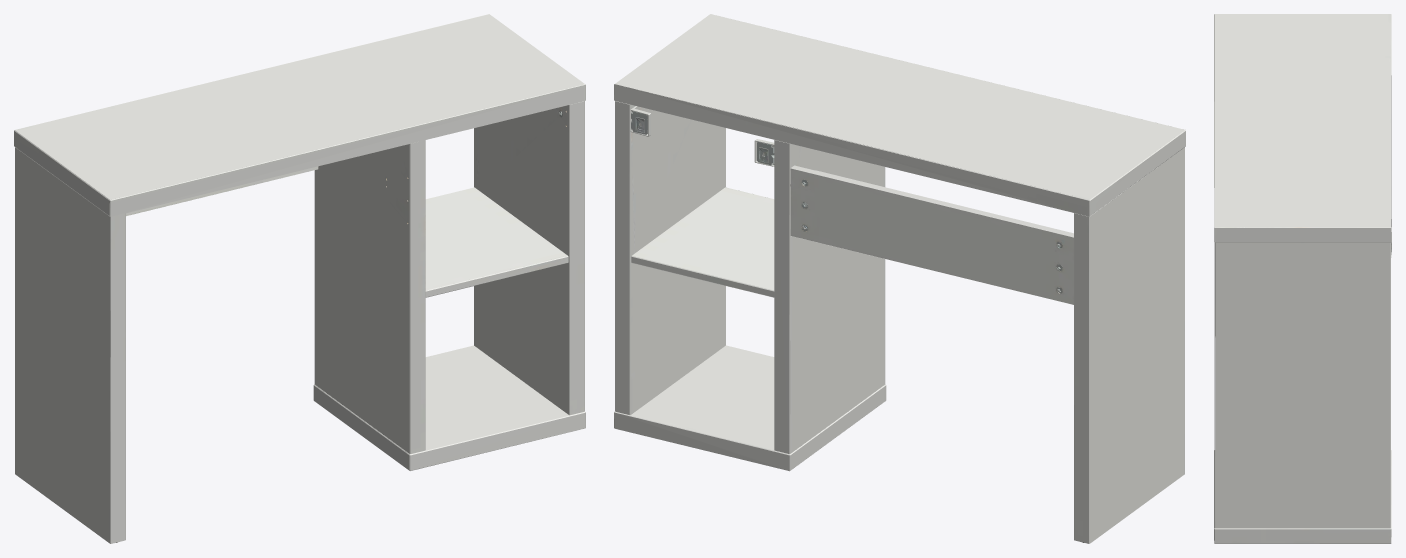
3 renders of one model, left to right at view 1: azimuth 30°, elevation 25°; view 2: azimuth 150°, elevation 25°; view 3: azimuth 270°, elevation 25°, orthographic. The views are drawn at different scales.
Parts seen in each view (by area): view 1: ASY_ART_30582445_S01_NV01_NODE_ID_4f01e4af-2b03-475f-af64-13; view 2: ASY_ART_30582445_S01_NV01_NODE_ID_4f01e4af-2b03-475f-af64-13; view 3: ASY_ART_30582445_S01_NV01_NODE_ID_4f01e4af-2b03-475f-af64-13.
Part boxes in pixels (left/top/right/bottom): ASY_ART_30582445_S01_NV01_NODE_ID_4f01e4af-2b03-475f-af64-13: left=14, top=14, right=585, bottom=543; ASY_ART_30582445_S01_NV01_NODE_ID_4f01e4af-2b03-475f-af64-13: left=614, top=14, right=1185, bottom=543; ASY_ART_30582445_S01_NV01_NODE_ID_4f01e4af-2b03-475f-af64-13: left=1214, top=14, right=1391, bottom=543.
Bounding box in the file's own units: 1.11 × 0.77 × 0.39.
1 material, 1 textured.
